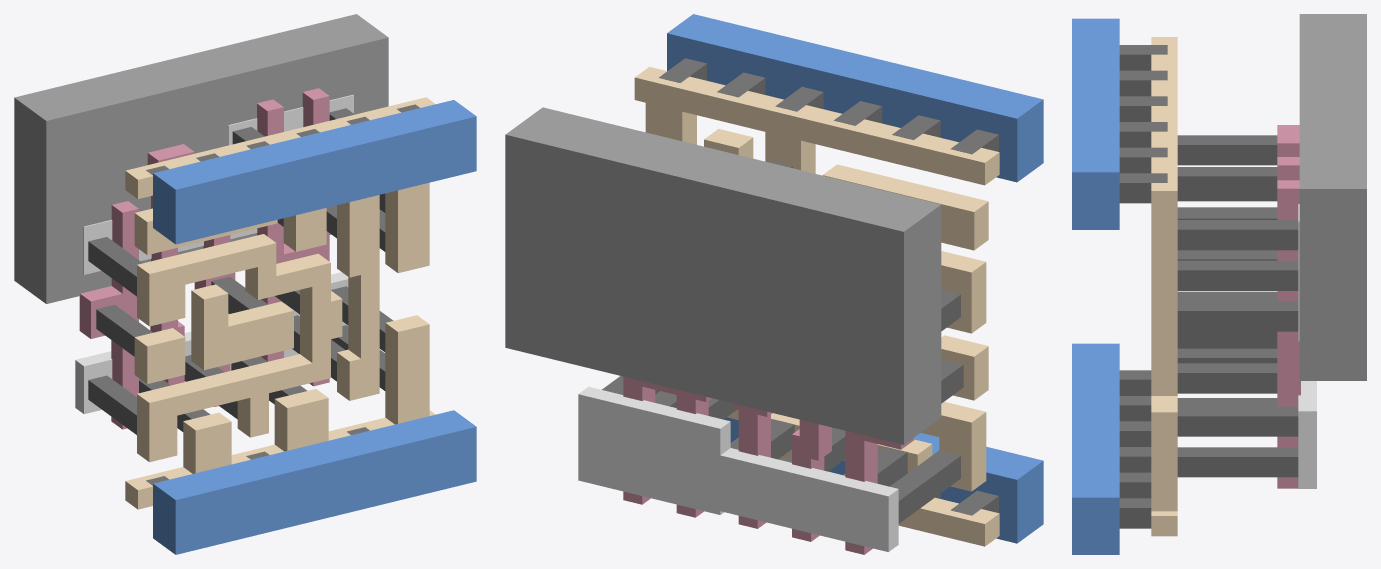
The model's file is sky130_fd_sc_hd__or3_2.gds.gltf.
3 renders of one model, left to right at view 1: azimuth 30°, elevation 25°; view 2: azimuth 150°, elevation 25°; view 3: azimuth 270°, elevation 25°, orthographic. The views are drawn at different scales.
Parts seen in each view (by area): view 1: sky130_fd_sc_hd__or3_2_li1, sky130_fd_sc_hd__or3_2_met1, sky130_fd_sc_hd__or3_2_nwell, sky130_fd_sc_hd__or3_2_licon, sky130_fd_sc_hd__or3_2_poly, sky130_fd_sc_hd__or3_2_diff, sky130_fd_sc_hd__or3_2_mcon; view 2: sky130_fd_sc_hd__or3_2_nwell, sky130_fd_sc_hd__or3_2_li1, sky130_fd_sc_hd__or3_2_met1, sky130_fd_sc_hd__or3_2_diff, sky130_fd_sc_hd__or3_2_licon, sky130_fd_sc_hd__or3_2_poly, sky130_fd_sc_hd__or3_2_mcon; view 3: sky130_fd_sc_hd__or3_2_licon, sky130_fd_sc_hd__or3_2_nwell, sky130_fd_sc_hd__or3_2_met1, sky130_fd_sc_hd__or3_2_li1, sky130_fd_sc_hd__or3_2_mcon, sky130_fd_sc_hd__or3_2_poly, sky130_fd_sc_hd__or3_2_diff.
Boxes of the visible parts, x1=… form: sky130_fd_sc_hd__or3_2_li1: x1=125, y1=97, x2=435, y2=509; sky130_fd_sc_hd__or3_2_met1: x1=153, y1=100, x2=476, y2=554; sky130_fd_sc_hd__or3_2_nwell: x1=14, y1=14, x2=388, y2=303; sky130_fd_sc_hd__or3_2_licon: x1=88, y1=108, x2=393, y2=434; sky130_fd_sc_hd__or3_2_poly: x1=79, y1=88, x2=329, y2=429; sky130_fd_sc_hd__or3_2_diff: x1=75, y1=94, x2=353, y2=414; sky130_fd_sc_hd__or3_2_mcon: x1=146, y1=104, x2=419, y2=485; sky130_fd_sc_hd__or3_2_nwell: x1=505, y1=107, x2=941, y2=444; sky130_fd_sc_hd__or3_2_li1: x1=634, y1=67, x2=999, y2=546; sky130_fd_sc_hd__or3_2_met1: x1=667, y1=14, x2=1043, y2=543; sky130_fd_sc_hd__or3_2_diff: x1=578, y1=386, x2=898, y2=551; sky130_fd_sc_hd__or3_2_licon: x1=602, y1=161, x2=963, y2=523; sky130_fd_sc_hd__or3_2_poly: x1=623, y1=376, x2=914, y2=554; sky130_fd_sc_hd__or3_2_mcon: x1=659, y1=58, x2=998, y2=515; sky130_fd_sc_hd__or3_2_licon: x1=1177, y1=135, x2=1298, y2=477; sky130_fd_sc_hd__or3_2_nwell: x1=1299, y1=14, x2=1366, y2=380; sky130_fd_sc_hd__or3_2_met1: x1=1072, y1=18, x2=1119, y2=554; sky130_fd_sc_hd__or3_2_li1: x1=1151, y1=37, x2=1177, y2=536; sky130_fd_sc_hd__or3_2_mcon: x1=1119, y1=45, x2=1167, y2=528; sky130_fd_sc_hd__or3_2_poly: x1=1277, y1=125, x2=1300, y2=488; sky130_fd_sc_hd__or3_2_diff: x1=1298, y1=204, x2=1316, y2=488.
Size of the model in its own units: 3.14 by 3.2 by 2.24.
